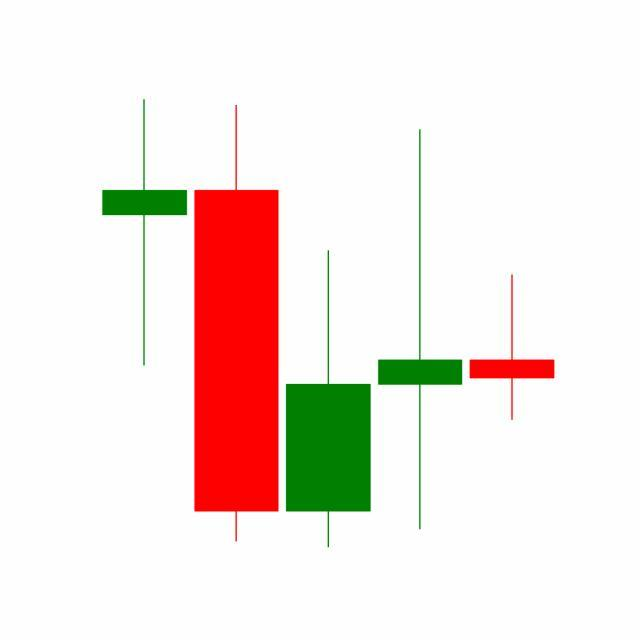Gravestone Doji: (466, 274, 559, 424)
